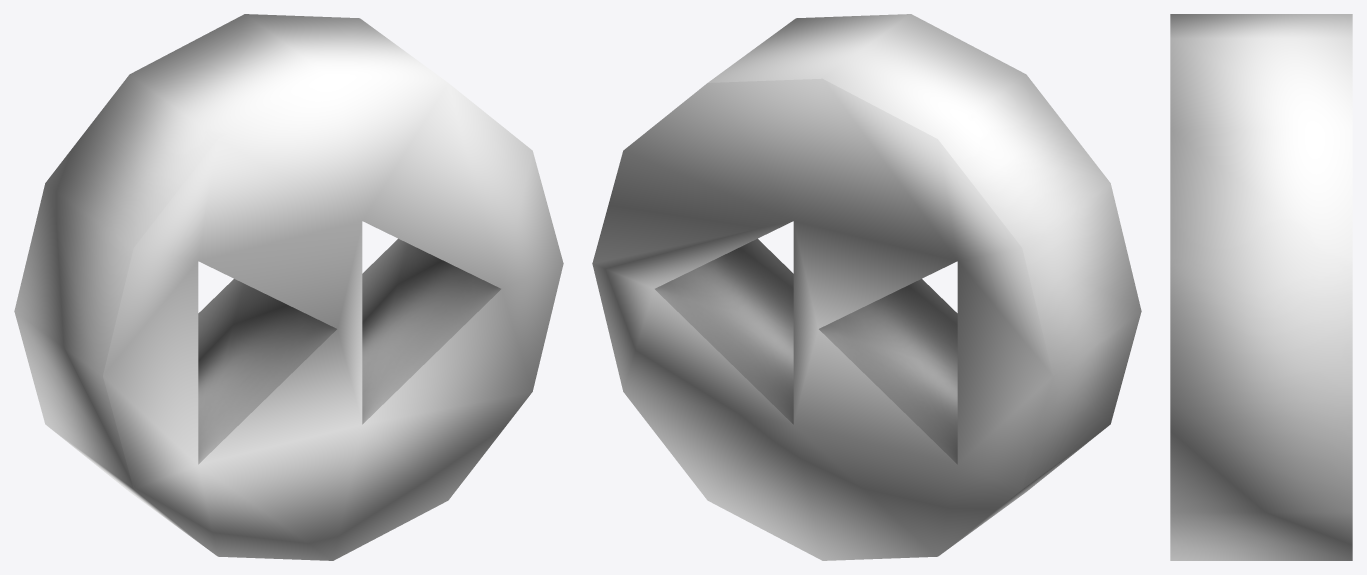
File: Arrow11.fbx
3 views of the same model, side by side, from view 1: azimuth 30°, elevation 25°; view 2: azimuth 150°, elevation 25°; view 3: azimuth 270°, elevation 25° (orthographic). The views are drawn at different scales.
Visible parts, largest first — view 1: Arrow11; view 2: Arrow11; view 3: Arrow11.
Part boxes in pixels (bbox=[...]): Arrow11: bbox=[14, 14, 563, 560]; Arrow11: bbox=[592, 14, 1141, 560]; Arrow11: bbox=[1170, 14, 1352, 560].
Size of the model in its own units: 5 by 5 by 1.66.
